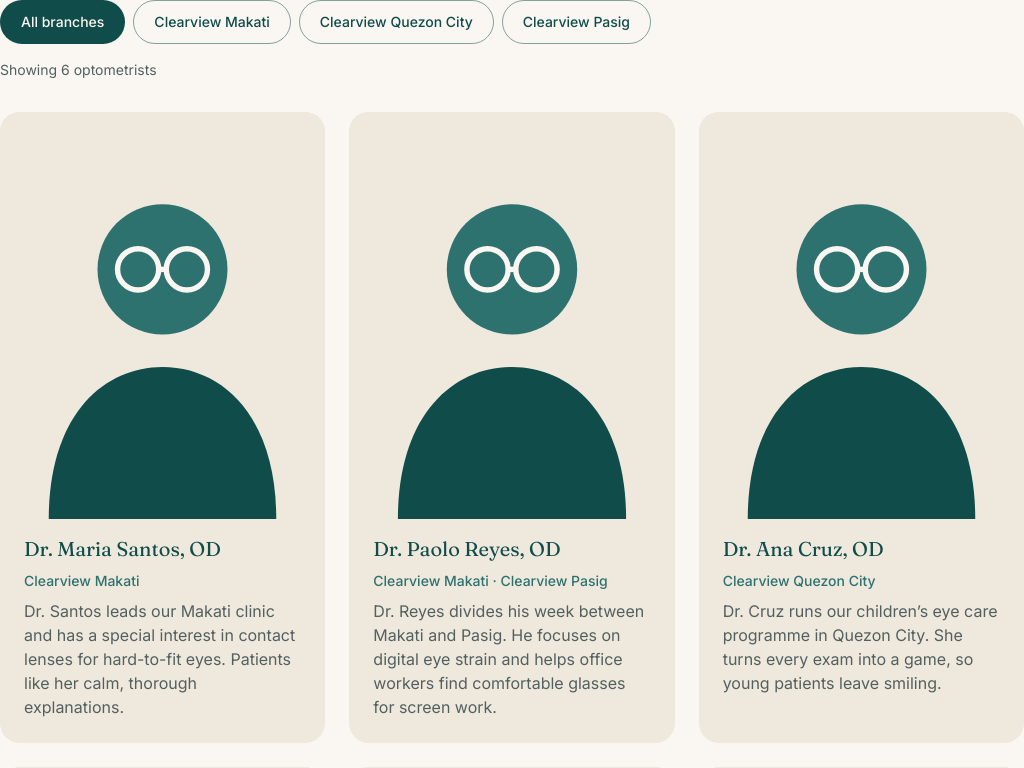
Scenario: OptometristDirectory › filters to the optometrists of the chosen branch
What coordinates should you click on to do the following:
click the button "Clearview Quezon City"
I would click on:
 (396, 22)
Its box is 299,0 -> 494,44.
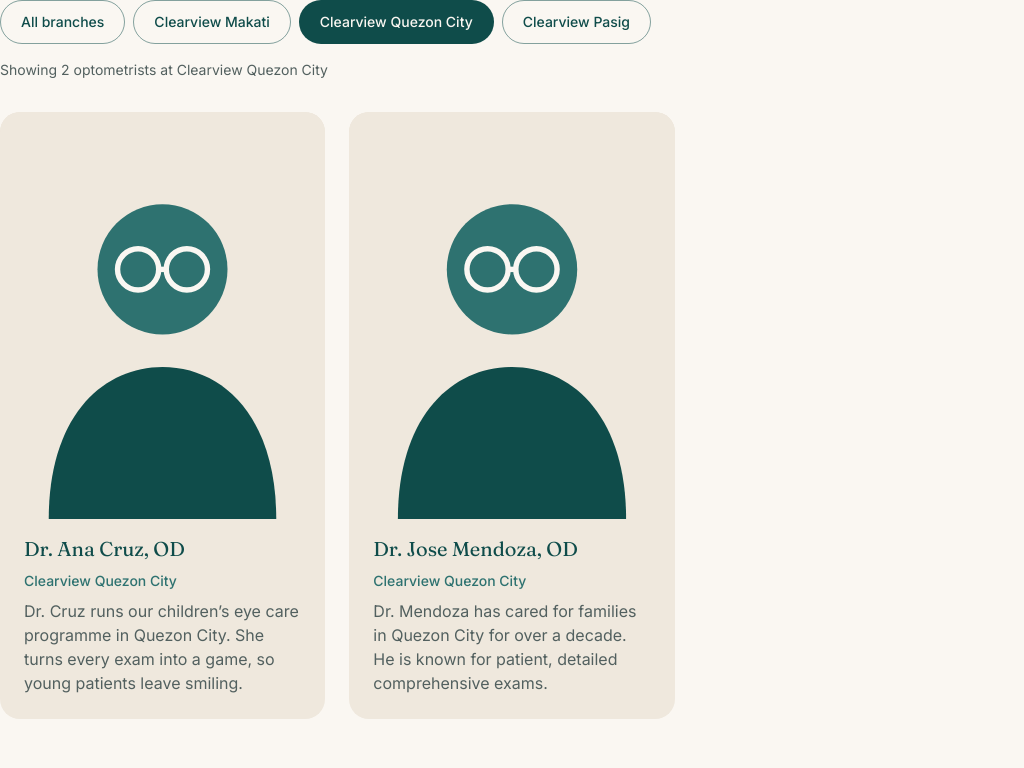
Expected: the heading "Dr. Ana Cruz, OD" is shown, 24,536 -> 185,561
Expected: the number of list items is 2, 0,112 -> 325,719; 349,112 -> 675,719
Expected: the heading "Dr. Maria Santos, OD" is gone
